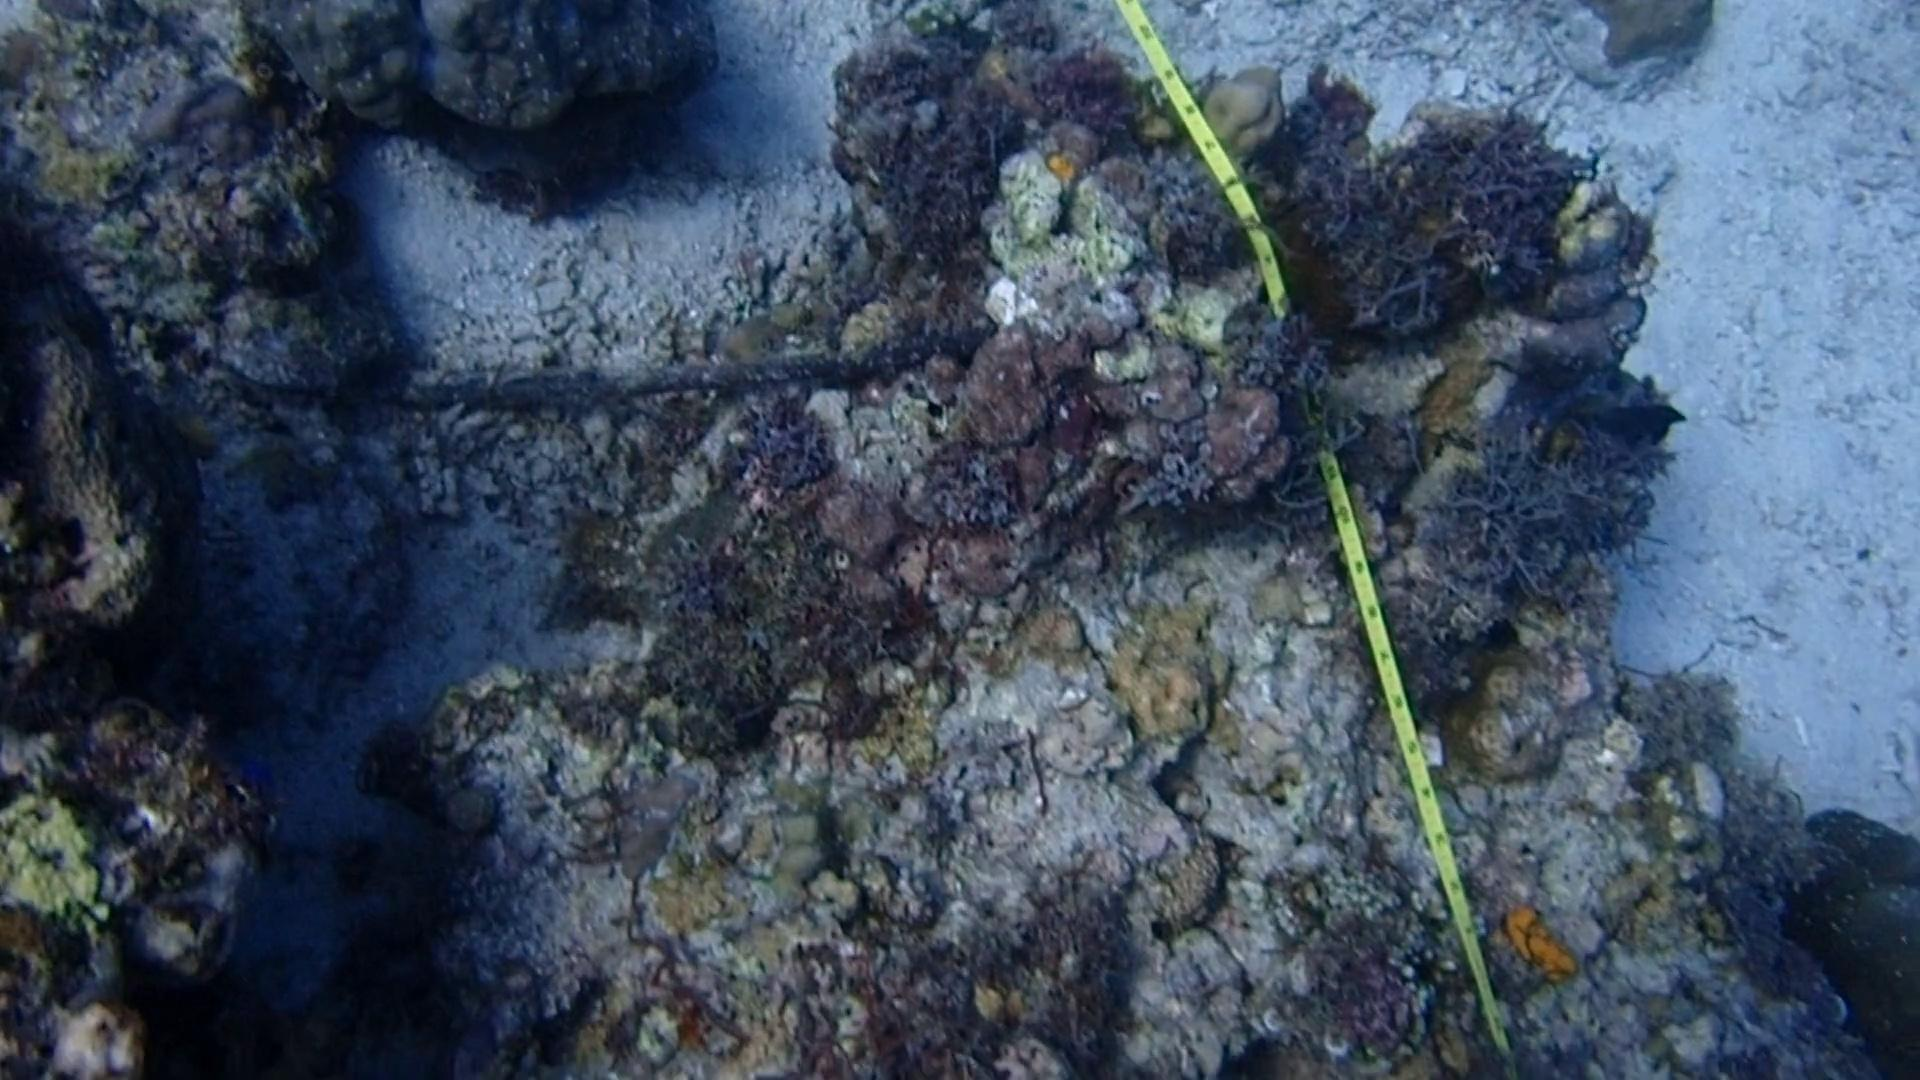Dark Fish: (1590, 373, 1697, 459)
